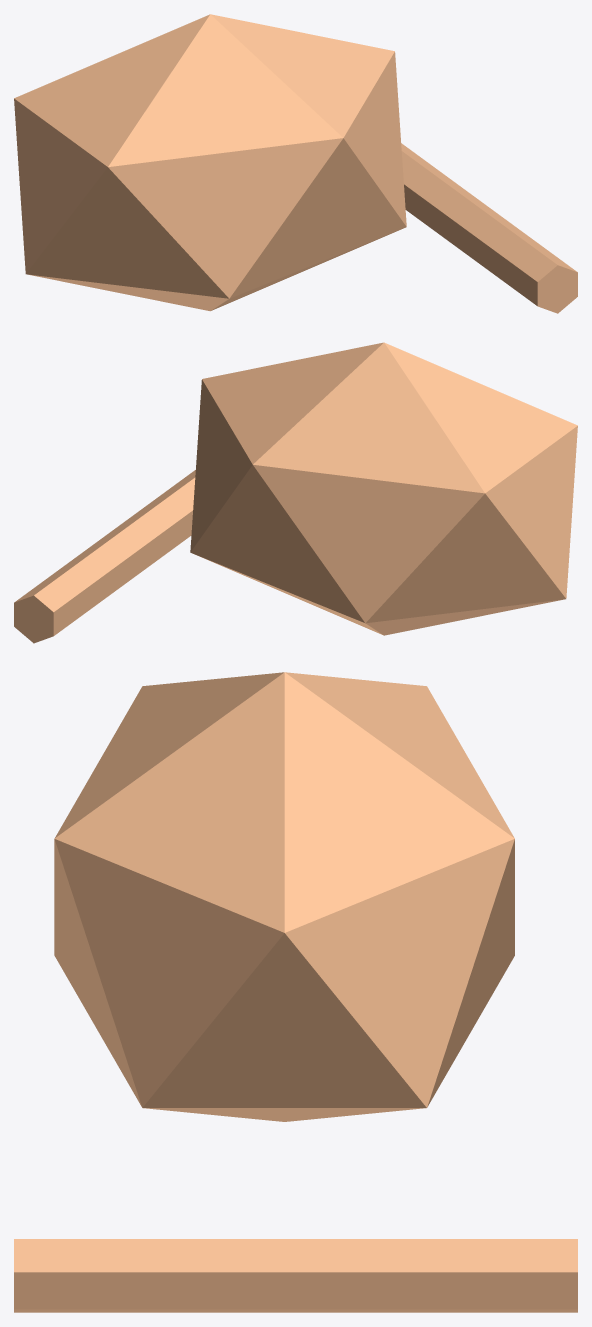
3 renders of one model, top to bottom at view 1: azimuth 30°, elevation 25°; view 2: azimuth 150°, elevation 25°; view 3: azimuth 270°, elevation 25°, orthographic. The views are drawn at different scales.
Parts seen in each view (by area): view 1: Wooden fish drum, Mallet; view 2: Wooden fish drum, Mallet; view 3: Wooden fish drum, Mallet.
Boxes of the visible parts, <box> form: Wooden fish drum: <box>14,14,406,311</box>; Mallet: <box>401,143,577,313</box>; Wooden fish drum: <box>190,342,577,635</box>; Mallet: <box>14,470,195,643</box>; Wooden fish drum: <box>54,672,514,1121</box>; Mallet: <box>14,1239,577,1312</box>.
Size of the model in its own units: 35.87 by 22 by 25.
